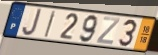2: (58, 13, 79, 42)
3: (117, 18, 138, 48)
9: (79, 14, 99, 44)
I: (43, 9, 58, 39)
J: (21, 8, 43, 37)
Z: (95, 15, 122, 46)
